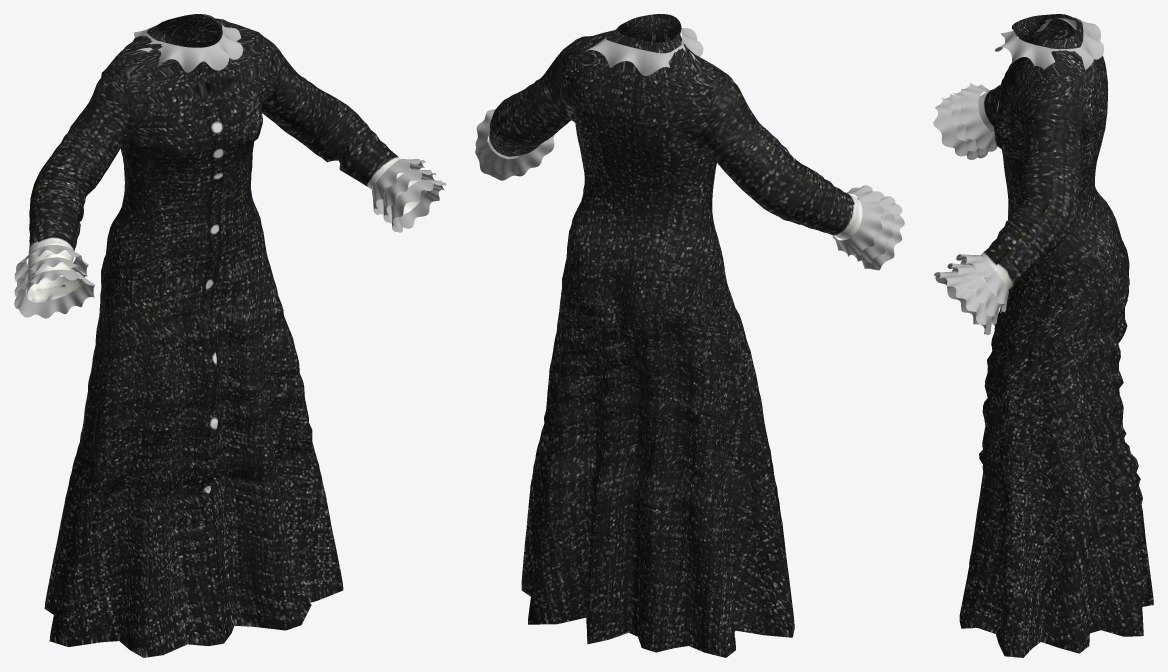
File: dress01_flat.glb
The picture shows the model from 3 angles, left to right: view 1: azimuth 30°, elevation 25°; view 2: azimuth 150°, elevation 25°; view 3: azimuth 270°, elevation 25°; orthographic projection.
Visible parts, largest first — view 1: dress; view 2: dress; view 3: dress.
Boxes of the visible parts, x1,y1,x2,y2 form: dress: (14,14,446,657); dress: (475,14,904,657); dress: (933,14,1153,657).
Size of the model in its own units: 1.05 by 1.38 by 0.481.
Materials: 2 (1 with a texture image).
